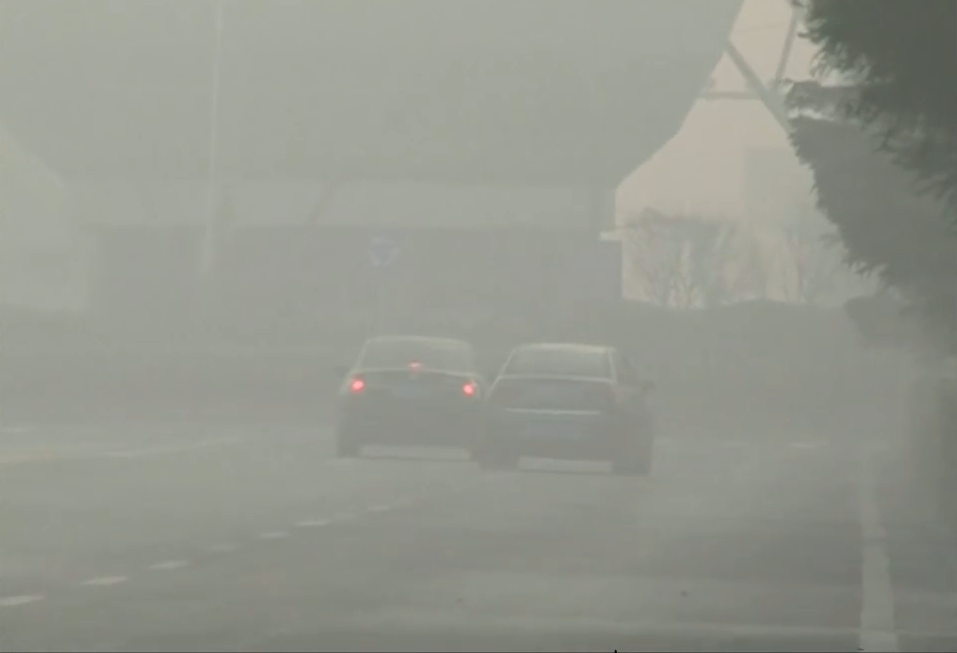car: (471, 336, 655, 475), (328, 334, 493, 464)
